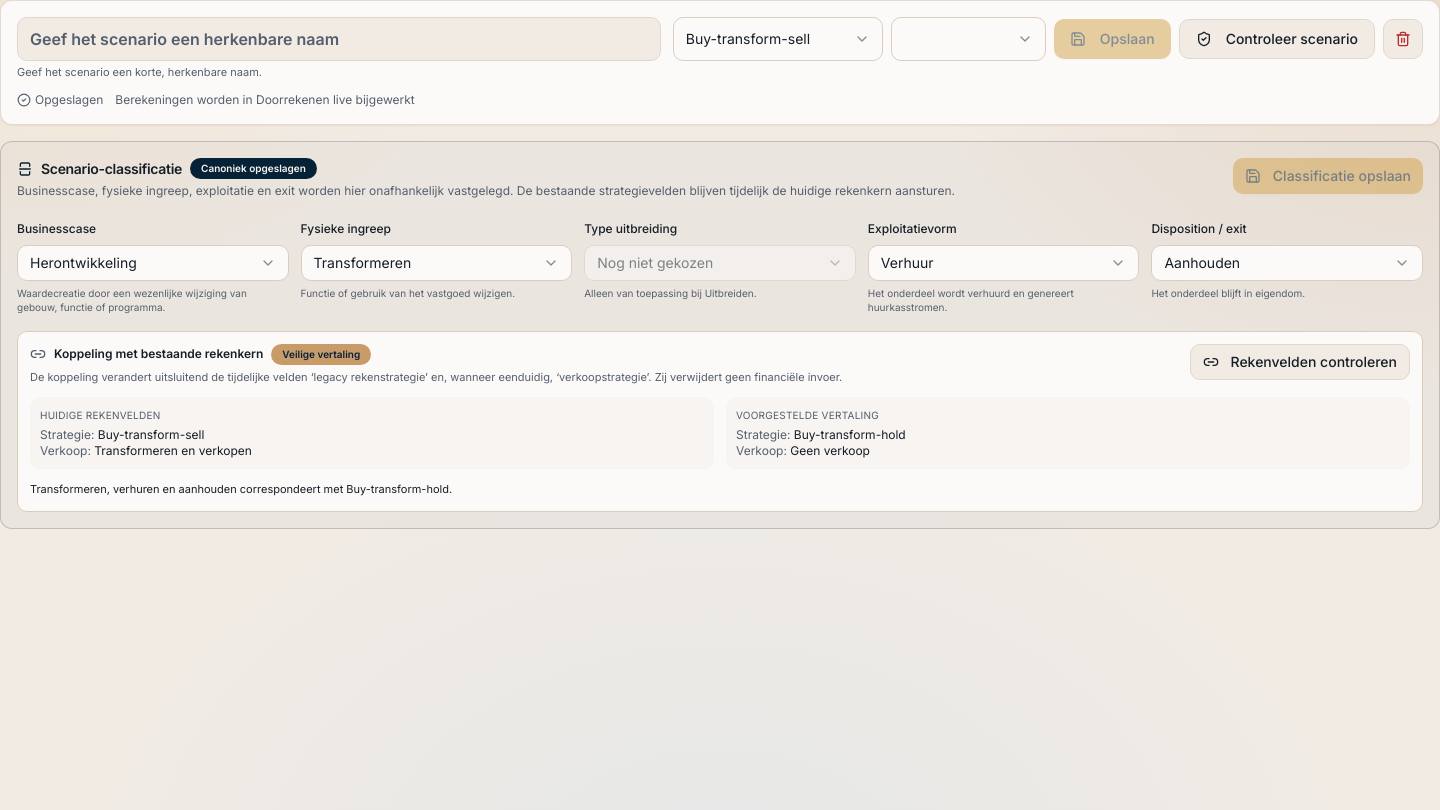
Vastgoedrekenen taxonomie Fase 3A/3B — scenario-classificatie › past legacy rekenvelden pas toe na een tweede expliciete bevestiging
Later steps or results of the test are not shown.
Expected: the text "Veilige vertaling" is shown, [271,344,371,365]
Click the button "Rekenvelden controleren". click: click(1300, 362)
box: [1190,344,1410,380]
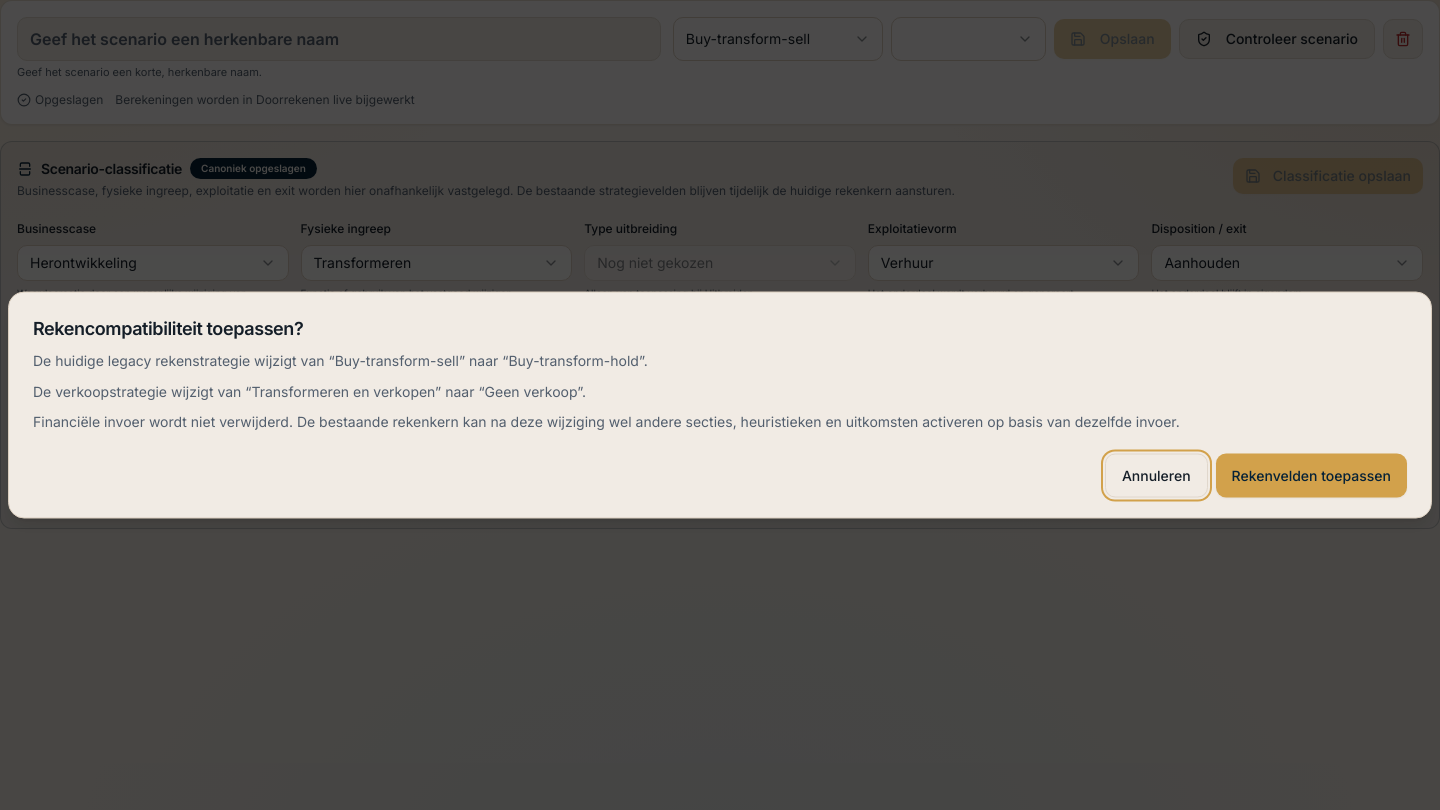
Now the heading "Rekencompatibiliteit toepassen?" is shown, box [33,318,303,338]
